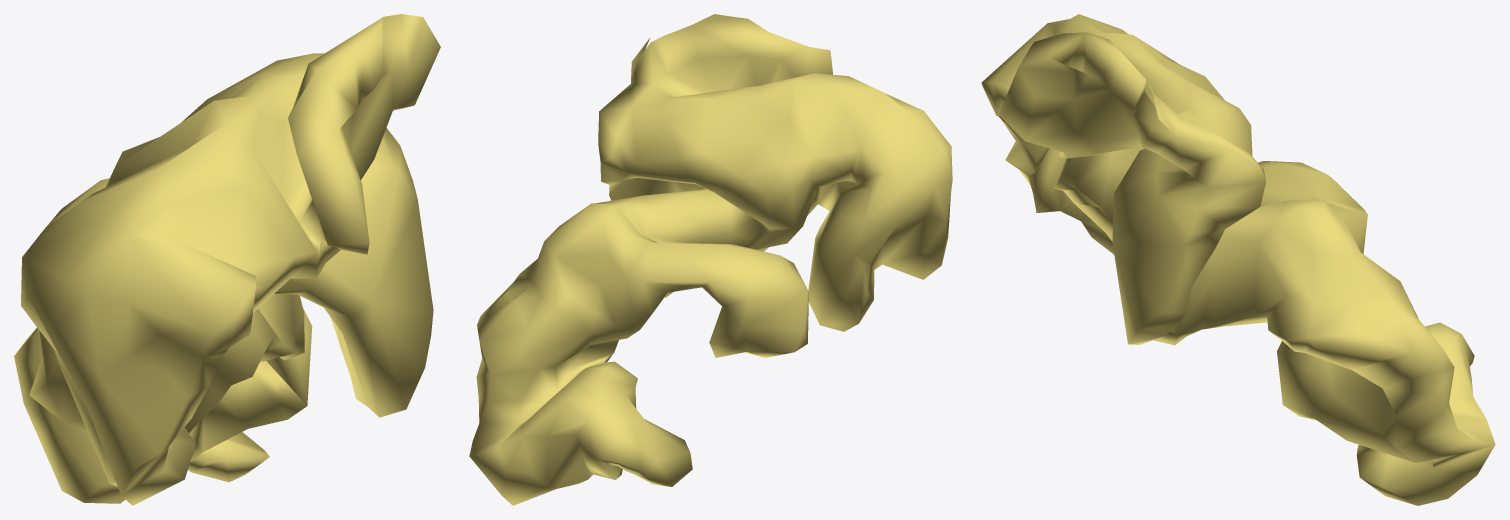
Rendered from superior-parietal-lobule-r.glb.
The picture shows the model from 3 angles, left to right: view 1: azimuth 30°, elevation 25°; view 2: azimuth 150°, elevation 25°; view 3: azimuth 270°, elevation 25°; orthographic projection. The views are drawn at different scales.
Visible parts, largest first — view 1: Superior parietal lobule.r; view 2: Superior parietal lobule.r; view 3: Superior parietal lobule.r.
Part boxes in pixels (x1=…): Superior parietal lobule.r: x1=14, y1=14, x2=440, y2=505; Superior parietal lobule.r: x1=469, y1=14, x2=952, y2=505; Superior parietal lobule.r: x1=981, y1=14, x2=1495, y2=505.
Bounding box in the file's own units: 0.0363 × 0.0418 × 0.0449.
